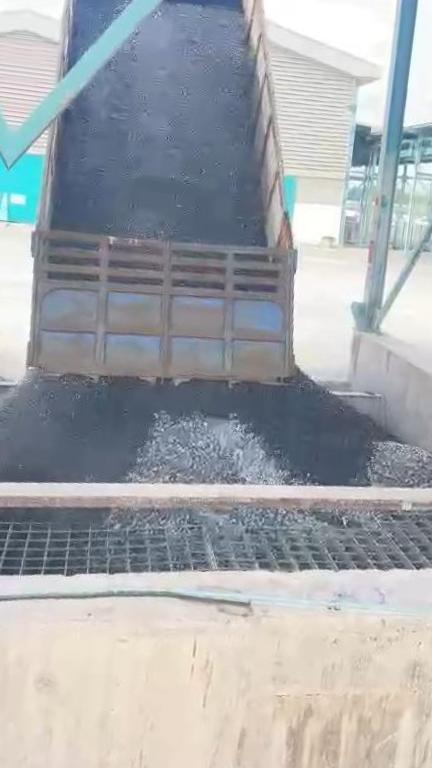gravel: (51, 1, 266, 245), (0, 373, 384, 484), (127, 413, 291, 485), (110, 507, 369, 534), (72, 0, 131, 61), (360, 441, 432, 487)
